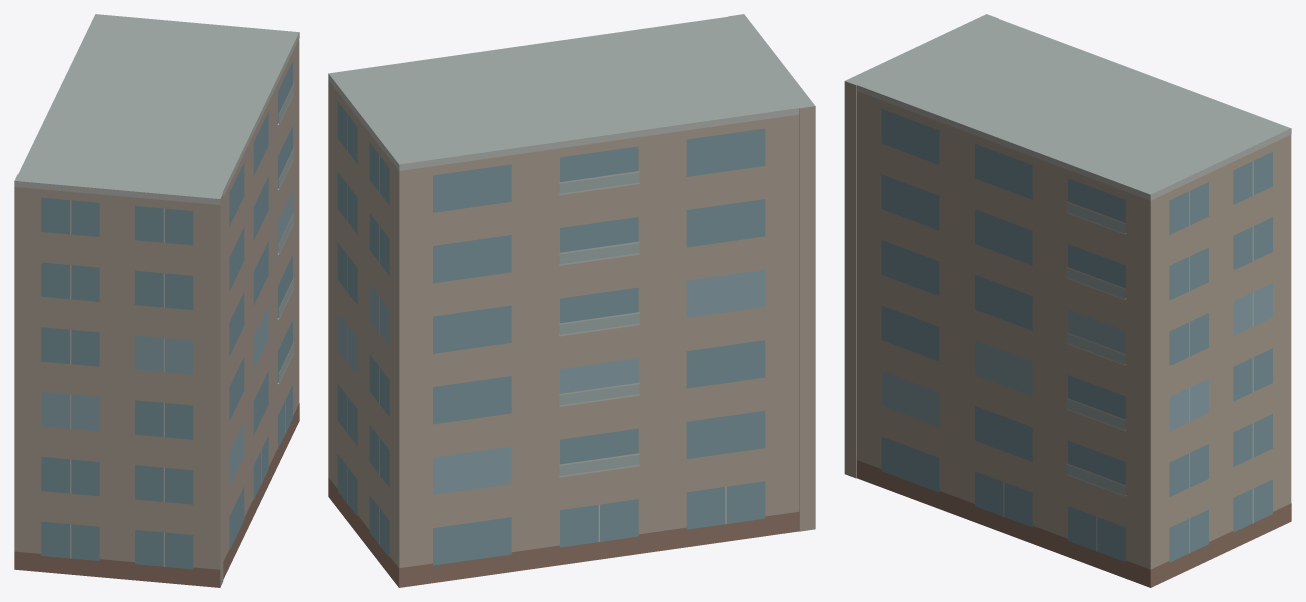
File: survey-upis-32892521.glb
The picture shows the model from 3 angles, left to right: view 1: azimuth 30°, elevation 25°; view 2: azimuth 150°, elevation 25°; view 3: azimuth 270°, elevation 25°; orthographic projection. The views are drawn at different scales.
Visible parts, largest first — view 1: survey-upis-32892521.tmp; view 2: survey-upis-32892521.tmp; view 3: survey-upis-32892521.tmp.
Boxes of the visible parts, left/top/right/bottom form: survey-upis-32892521.tmp: left=14, top=14, right=299, bottom=587; survey-upis-32892521.tmp: left=328, top=14, right=815, bottom=587; survey-upis-32892521.tmp: left=844, top=14, right=1291, bottom=587.
Bounding box in the file's own units: 15.58 × 15.8 × 16.28.
